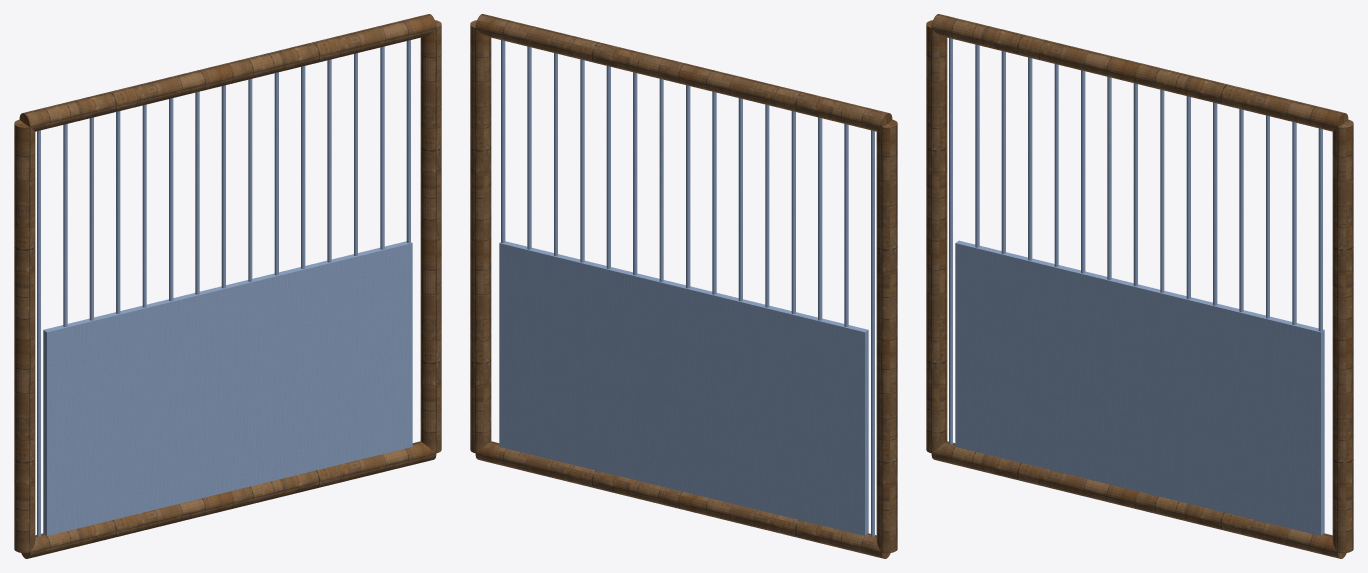
The model's file is tear.glb.
The picture shows the model from 3 angles, left to right: view 1: azimuth 30°, elevation 25°; view 2: azimuth 150°, elevation 25°; view 3: azimuth 330°, elevation 25°; orthographic projection.
Visible parts, largest first — view 1: Tecido, Travessa, Travessa.001, Travessa.003, Travessa.002, Urdidura, Urdidura.002, Urdidura.004, Urdidura.005, Urdidura.006, Urdidura.001, Urdidura.007 (+8 smaller); view 2: Tecido, Travessa, Travessa.001, Travessa.003, Travessa.002, Urdidura, Urdidura.002, Urdidura.004, Urdidura.005, Urdidura.006, Urdidura.001, Urdidura.007 (+8 smaller); view 3: Tecido, Travessa.001, Travessa, Travessa.003, Travessa.002, Urdidura, Urdidura.014, Urdidura.001, Urdidura.003, Urdidura.005, Urdidura.009, Urdidura.004 (+8 smaller).
Part boxes in pixels (x1,y1,x2,y2): Tecido: [43, 241, 412, 535]; Travessa: [14, 119, 35, 553]; Travessa.001: [420, 20, 441, 453]; Travessa.003: [19, 14, 436, 131]; Travessa.002: [21, 441, 436, 558]; Urdidura: [37, 130, 40, 536]; Urdidura.002: [89, 117, 93, 320]; Urdidura.004: [142, 104, 146, 307]; Urdidura.005: [169, 98, 173, 301]; Urdidura.006: [195, 91, 199, 294]; Urdidura.001: [63, 124, 67, 326]; Urdidura.007: [221, 85, 225, 288]; Tecido: [499, 241, 868, 535]; Travessa: [876, 119, 897, 553]; Travessa.001: [470, 20, 491, 453]; Travessa.003: [475, 14, 892, 131]; Travessa.002: [475, 441, 890, 558]; Urdidura: [871, 130, 874, 536]; Urdidura.002: [818, 117, 822, 320]; Urdidura.004: [765, 104, 769, 307]; Urdidura.005: [738, 98, 742, 301]; Urdidura.006: [712, 91, 716, 294]; Urdidura.001: [844, 124, 848, 326]; Urdidura.007: [686, 85, 690, 288]; Tecido: [955, 240, 1324, 535]; Travessa.001: [1332, 119, 1353, 553]; Travessa: [926, 20, 947, 453]; Travessa.003: [931, 14, 1348, 131]; Travessa.002: [931, 441, 1346, 558]; Urdidura: [949, 38, 952, 444]; Urdidura.014: [1318, 128, 1322, 331]; Urdidura.001: [975, 44, 979, 247]; Urdidura.003: [1028, 57, 1032, 260]; Urdidura.005: [1081, 70, 1085, 273]; Urdidura.009: [1186, 96, 1190, 299]; Urdidura.004: [1054, 64, 1058, 266].
Bounding box in the file's own units: 2.09 × 2.09 × 0.09.
Materials: 3 (3 with a texture image).
